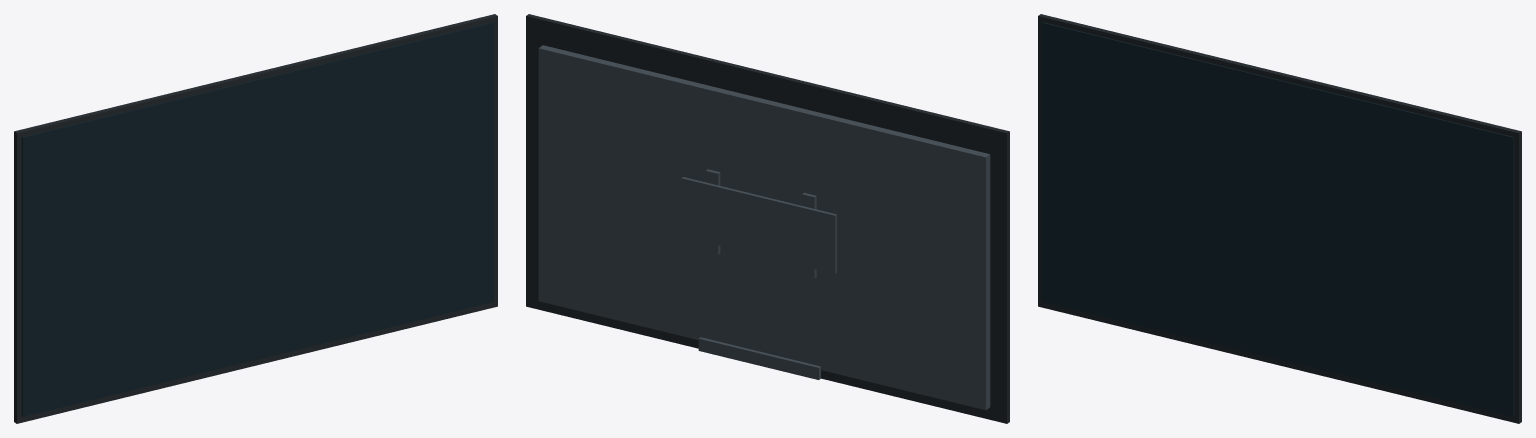
File: television-1.glb
3 renders of one model, left to right at view 1: azimuth 30°, elevation 25°; view 2: azimuth 150°, elevation 25°; view 3: azimuth 330°, elevation 25°, orthographic.
Parts seen in each view (by area): view 1: television:1:editor; view 2: television:1:editor; view 3: television:1:editor.
Part boxes in pixels (x1,y1,x2,y2): television:1:editor: (14,14,497,423); television:1:editor: (526,14,1009,423); television:1:editor: (1038,14,1521,423).
Bounding box in the file's own units: 1.23 × 0.71 × 0.0531.
